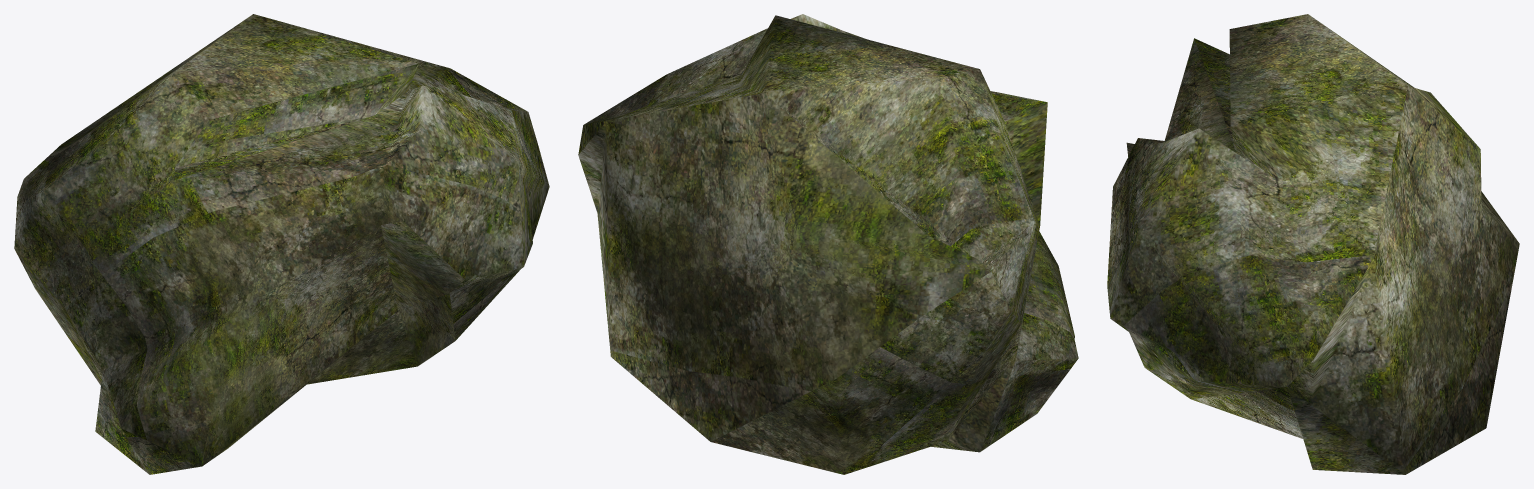
The model's file is stone_05.FBX.
3 views of the same model, side by side, from view 1: azimuth 30°, elevation 25°; view 2: azimuth 150°, elevation 25°; view 3: azimuth 270°, elevation 25° (orthographic). The views are drawn at different scales.
Visible parts, largest first — view 1: stone_05_02; view 2: stone_05_02; view 3: stone_05_02.
Part boxes in pixels (x1,y1,x2,y2): stone_05_02: (14,14,549,474); stone_05_02: (578,14,1078,474); stone_05_02: (1107,14,1519,474).
Bounding box in the file's own units: 8.64 × 6.39 × 6.37.
